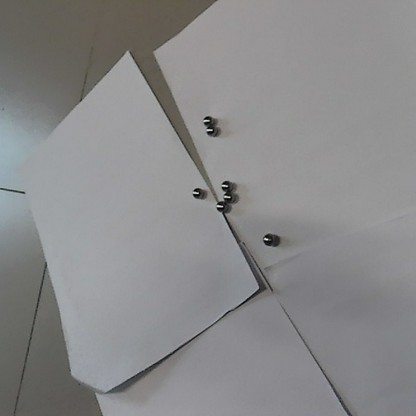ironball: (262, 232, 273, 245), (216, 200, 227, 212), (192, 186, 203, 198), (205, 124, 216, 135), (223, 191, 233, 201), (202, 114, 212, 124), (221, 178, 229, 189)
